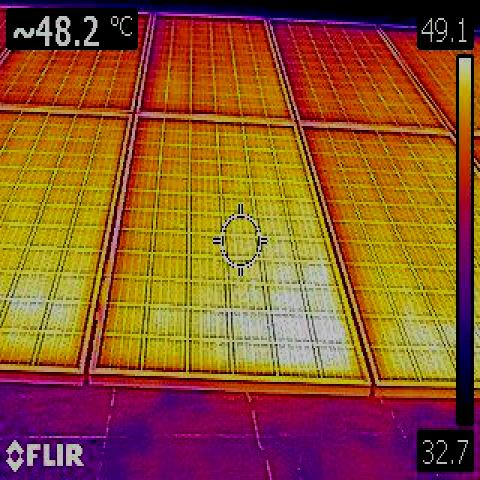fault: (272, 268, 337, 372)
